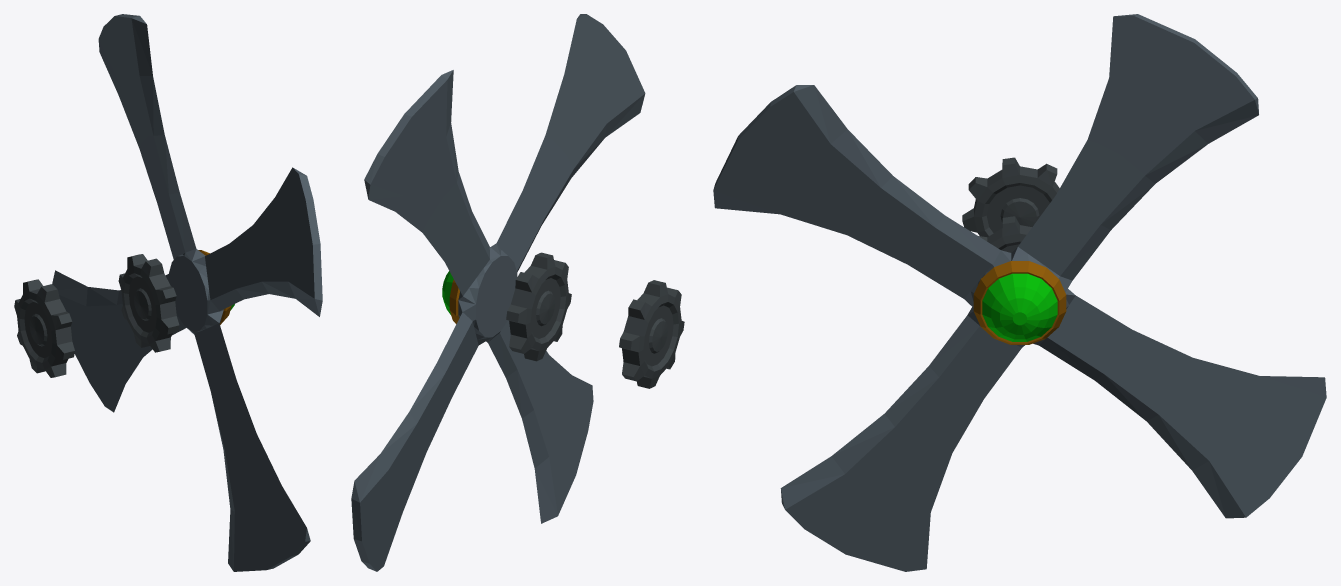
Rendered from HeliceG_L.obj.
3 renders of one model, left to right at view 1: azimuth 30°, elevation 25°; view 2: azimuth 150°, elevation 25°; view 3: azimuth 270°, elevation 25°, orthographic. The views are drawn at different scales.
Parts seen in each view (by area): view 1: Helice_Grande_L_Sphere.008; view 2: Helice_Grande_L_Sphere.008; view 3: Helice_Grande_L_Sphere.008.
Part boxes in pixels (left/top/right/bottom): Helice_Grande_L_Sphere.008: left=14, top=14, right=322, bottom=571; Helice_Grande_L_Sphere.008: left=351, top=14, right=684, bottom=571; Helice_Grande_L_Sphere.008: left=713, top=14, right=1326, bottom=571.
Bounding box in the file's own units: 1.84 × 4.28 × 4.28.
1 material, 1 textured.
